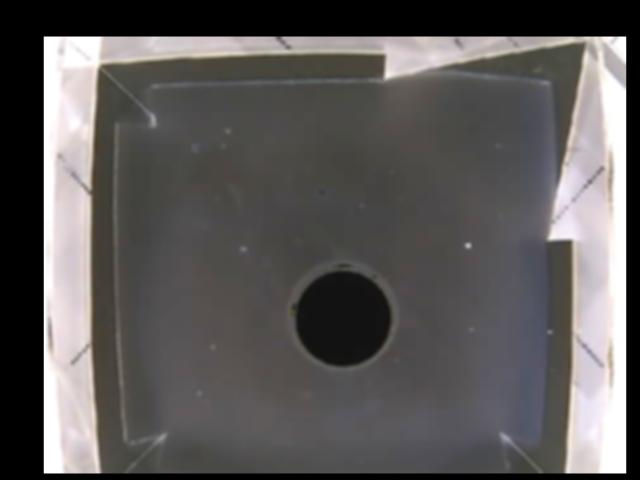Bottle: (289, 260, 399, 368)
